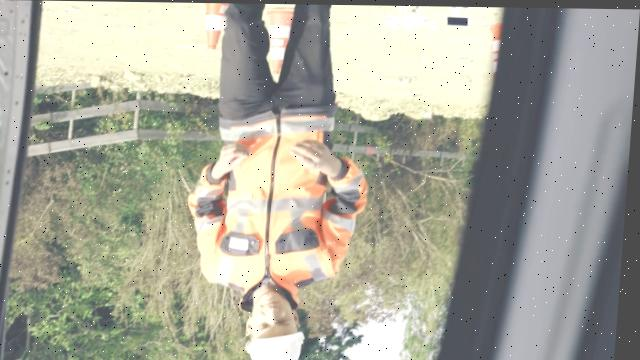drone: (379, 5, 439, 32)
